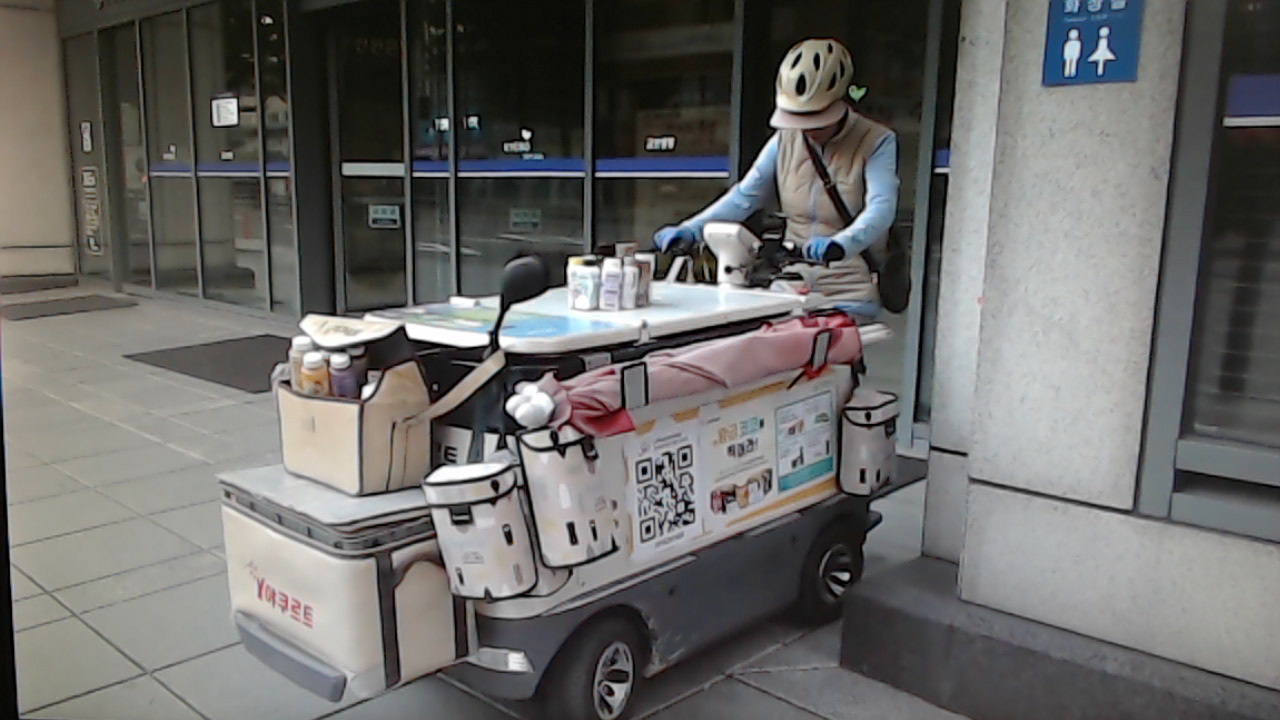Yakurut: (626, 35, 914, 335)
